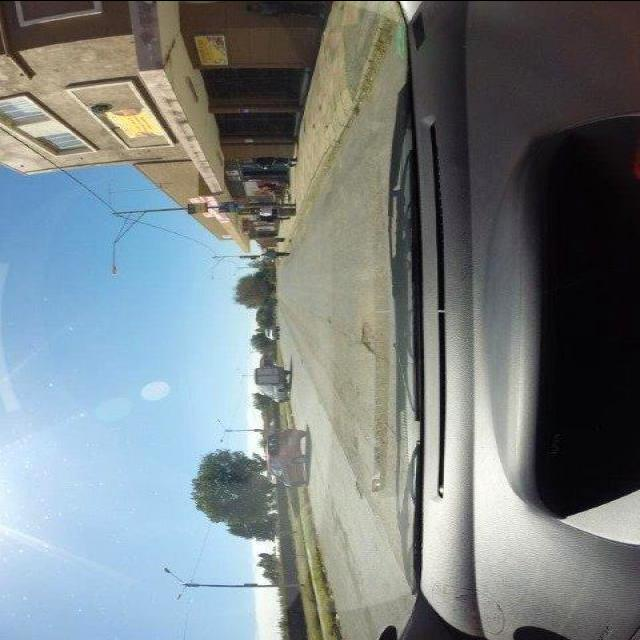lubang: (358, 319, 380, 360), (351, 474, 366, 500)
